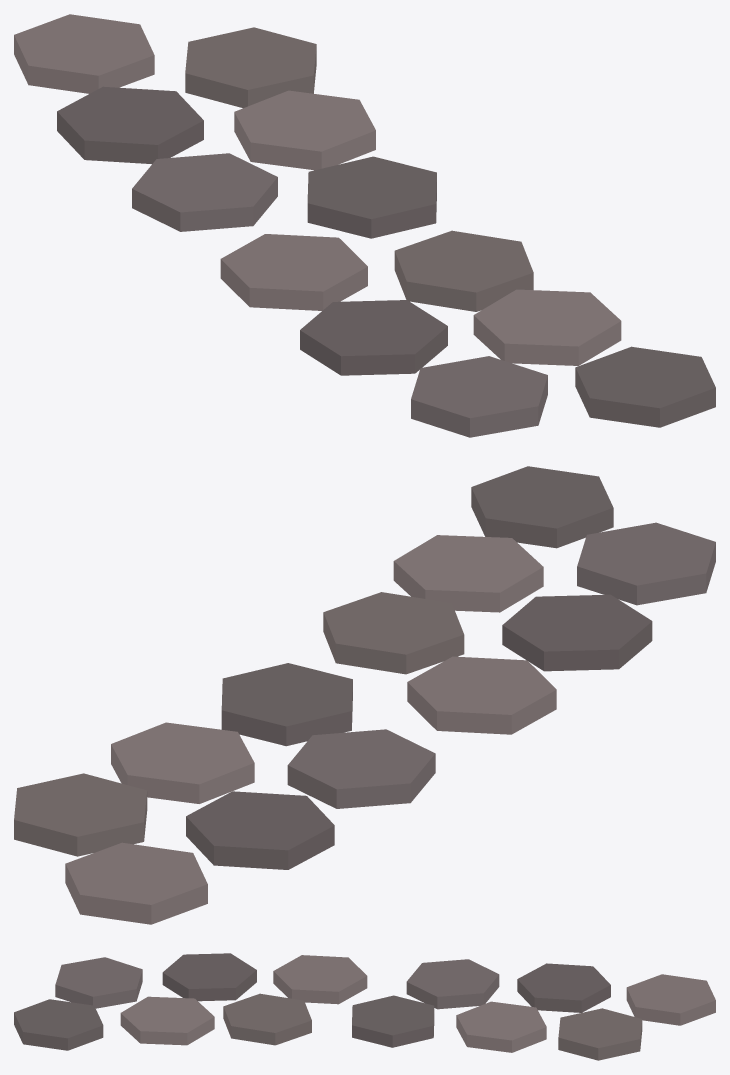
The model's file is Stone_Road.glb.
3 renders of one model, top to bottom at view 1: azimuth 30°, elevation 25°; view 2: azimuth 150°, elevation 25°; view 3: azimuth 270°, elevation 25°, orthographic. The views are drawn at different scales.
Visible parts, largest first — view 1: StonePath.002_Material.005_0, StonePath.003_Material.005_0; view 2: StonePath.002_Material.005_0, StonePath.003_Material.005_0; view 3: StonePath.002_Material.005_0, StonePath.003_Material.005_0.
Boxes of the visible parts, box(x1,y1,x2,y2) form: StonePath.002_Material.005_0: box(220, 230, 715, 437); StonePath.003_Material.005_0: box(14, 14, 436, 238); StonePath.002_Material.005_0: box(323, 466, 715, 734); StonePath.003_Material.005_0: box(14, 663, 435, 924); StonePath.002_Material.005_0: box(14, 953, 367, 1050); StonePath.003_Material.005_0: box(352, 959, 715, 1060).
Size of the model in its own units: 0.6622 by 0.0404 by 2.07.
1 material, 1 textured.
